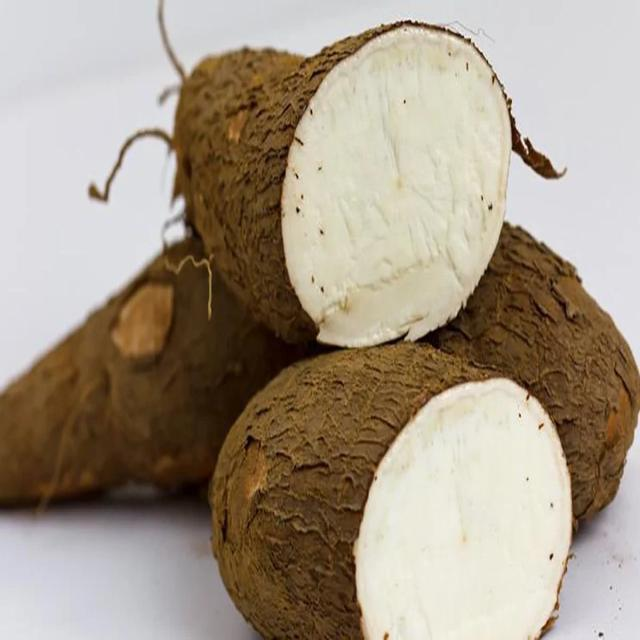yuca: (152, 16, 552, 368)
